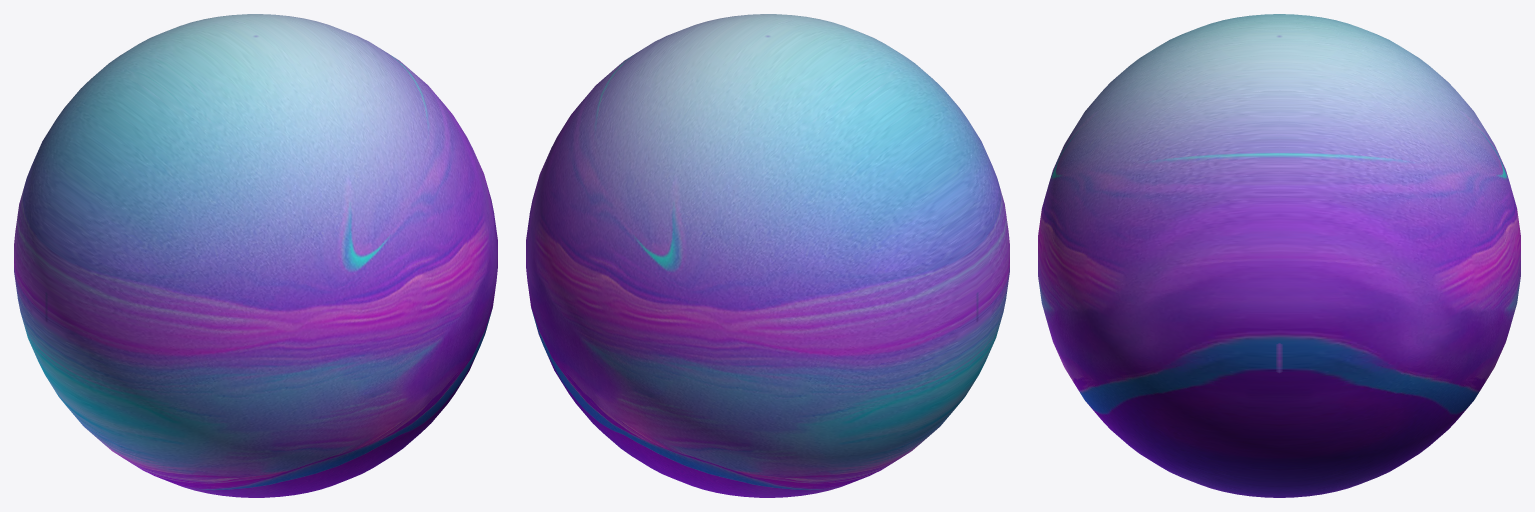
The model's file is planet_color-transformed.glb.
3 views of the same model, side by side, from view 1: azimuth 30°, elevation 25°; view 2: azimuth 150°, elevation 25°; view 3: azimuth 270°, elevation 25° (orthographic).
Parts seen in each view (by area): view 1: Sphere; view 2: Sphere; view 3: Sphere.
Boxes of the visible parts, left/top/right/bottom form: Sphere: left=14, top=14, right=497, bottom=497; Sphere: left=526, top=14, right=1009, bottom=497; Sphere: left=1038, top=14, right=1520, bottom=497.
Size of the model in its own units: 2 by 2 by 1.99.
1 material, 1 textured.
